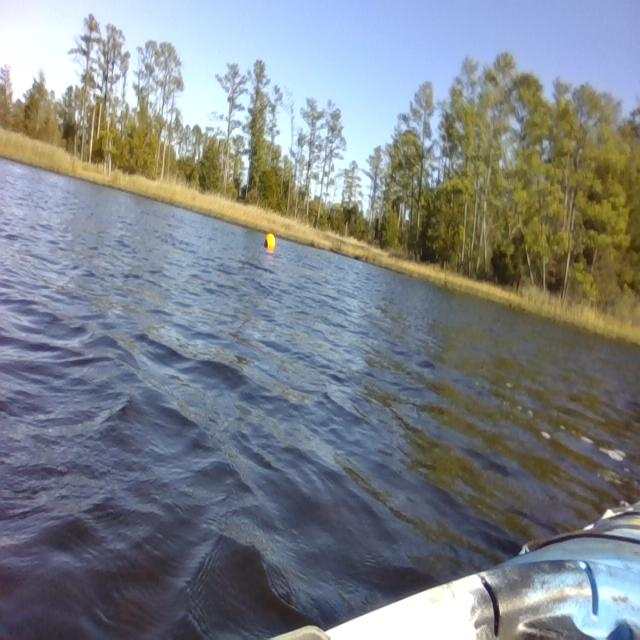Buoy: (263, 229, 277, 253)
